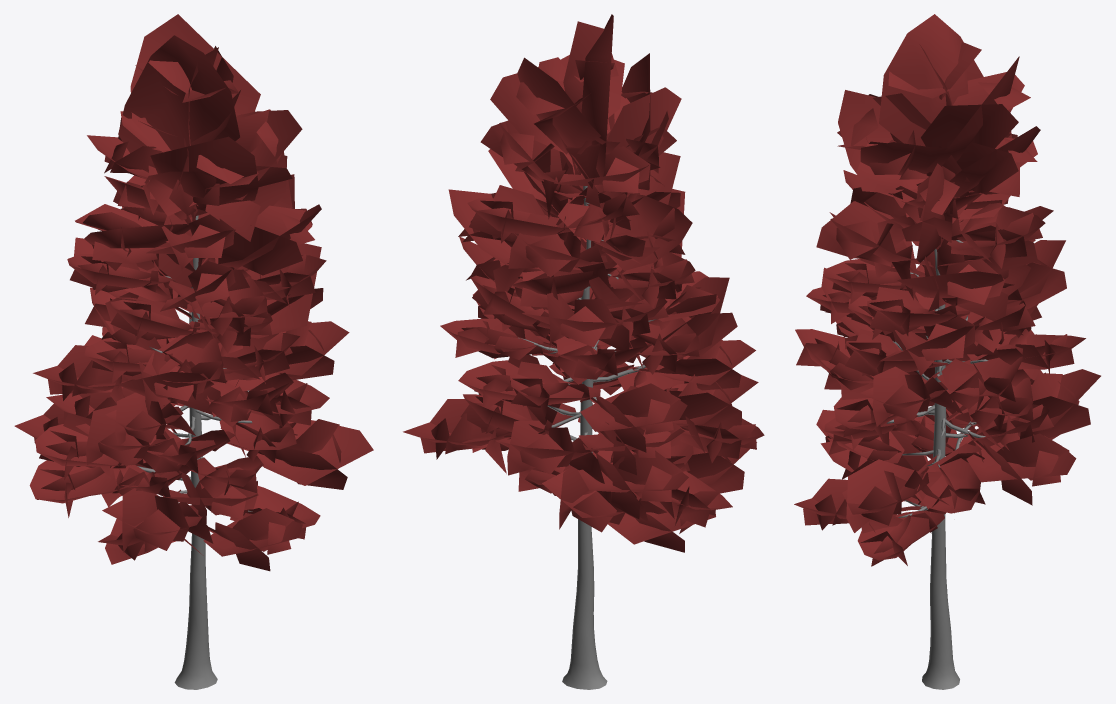
The picture shows the model from 3 angles, left to right: view 1: azimuth 30°, elevation 25°; view 2: azimuth 150°, elevation 25°; view 3: azimuth 270°, elevation 25°; orthographic projection. The views are drawn at different scales.
Visible parts, largest first — view 1: AM113_035_loblollypinePine; view 2: AM113_035_loblollypinePine; view 3: AM113_035_loblollypinePine.
Boxes of the visible parts, bbox=[...] form: AM113_035_loblollypinePine: bbox=[14, 14, 373, 689]; AM113_035_loblollypinePine: bbox=[403, 14, 764, 689]; AM113_035_loblollypinePine: bbox=[794, 14, 1100, 689].
Bounding box in the file's own units: 4392 × 9090 × 3880.
